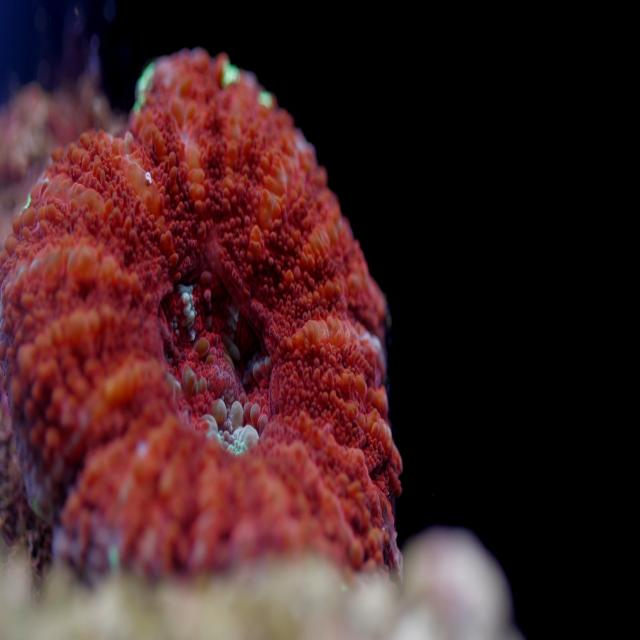Scolymia-Vitiensis -Poisonous-: (6, 49, 398, 606)
